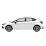car: (9, 20, 16, 23)
